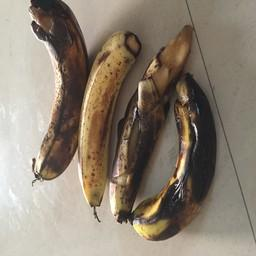Bad_banana: (23, 0, 217, 256)
